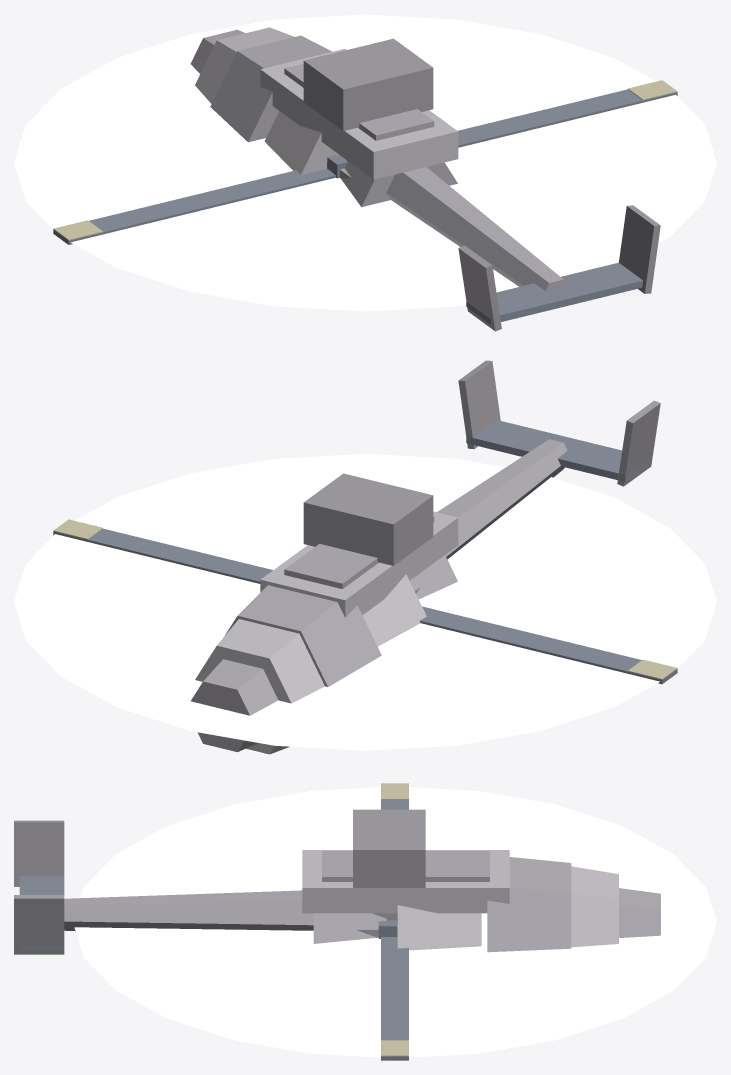
Rendered from gunship.glb.
3 renders of one model, top to bottom at view 1: azimuth 30°, elevation 25°; view 2: azimuth 150°, elevation 25°; view 3: azimuth 270°, elevation 25°, orthographic. The views are drawn at different scales.
Visible parts, largest first — view 1: disc, body, blades; view 2: disc, body, blades; view 3: disc, body, blades.
Boxes of the visible parts, box(x1,y1,x2,y2) form: disc: box(14, 14, 716, 311); body: box(190, 27, 660, 331); blades: box(53, 80, 677, 244); disc: box(14, 453, 716, 750); body: box(191, 360, 660, 754); blades: box(53, 519, 677, 684); disc: box(74, 787, 716, 1057); body: box(14, 809, 660, 954); blades: box(381, 783, 408, 1060).
Size of the model in its own units: 23 by 6.55 by 25.1.
